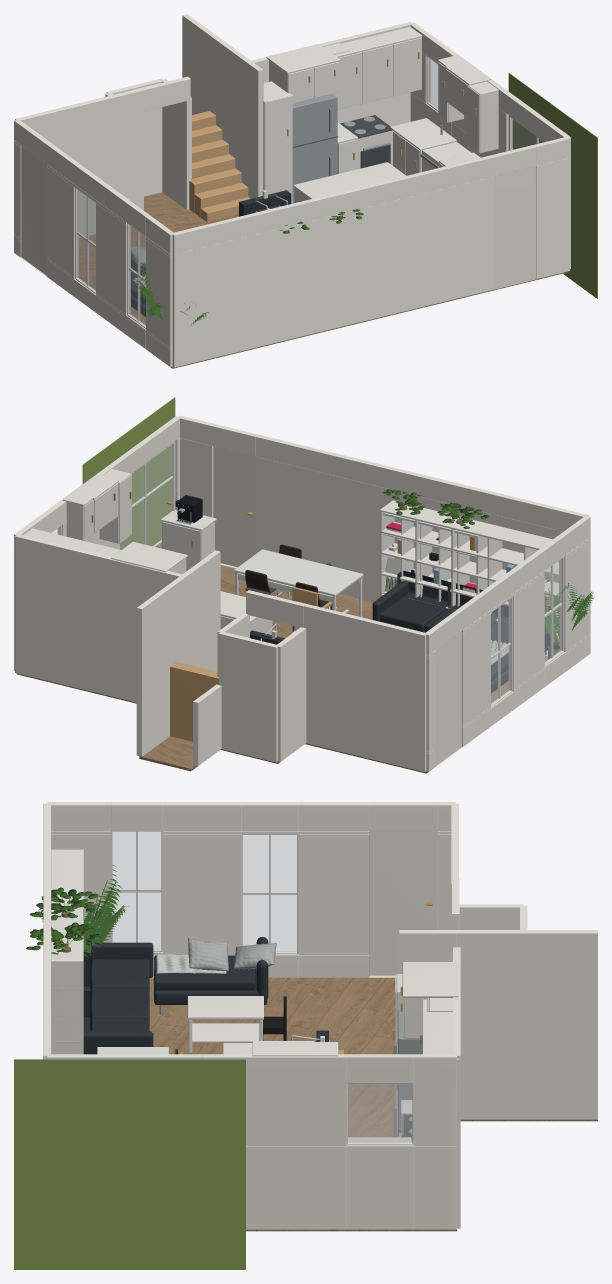
The model's file is model-7d94ebdce4aa.glb.
3 renders of one model, top to bottom at view 1: azimuth 30°, elevation 25°; view 2: azimuth 150°, elevation 25°; view 3: azimuth 270°, elevation 25°, orthographic. The views are drawn at different scales.
Visible parts, largest first — view 1: wall_8_segment.006, wall_11_segment, wall_8_segment.007, inferred_outdoor_brightness, wall_3_segment, door_panel.002, wall_8_segment.001, home-downstairs__refrigerator_24__body, wall_2_segment, measured_floor_polygon, wall_5_segment, door_panel (+52 smaller); view 2: wall_1_segment, wall_11_segment, wall_8_segment.006, wall_3_segment, wall_8_segment.007, wall_4_segment, inferred_outdoor_brightness, door_panel.002, measured_floor_polygon, wall_9_segment, wall_0_segment.015, observed_glazed_patio_panel (+45 smaller); view 3: inferred_outdoor_brightness, wall_3_segment, measured_floor_polygon, wall_0_segment.015, wall_0_segment.027, wall_7_segment.007, door_panel, wall_7_segment.008, wall_7_segment.004, glass.001, glass, glass.002 (+40 smaller).
Part boxes in pixels (bbox=[...]): wall_8_segment.006: bbox=[172, 176, 493, 367]; wall_11_segment: bbox=[15, 88, 143, 237]; wall_8_segment.007: bbox=[172, 155, 493, 254]; inferred_outdoor_brightness: bbox=[508, 73, 597, 298]; wall_3_segment: bbox=[182, 14, 240, 168]; door_panel.002: bbox=[494, 166, 535, 288]; wall_8_segment.001: bbox=[536, 158, 569, 278]; home-downstairs__refrigerator_24__body: bbox=[292, 94, 337, 203]; wall_2_segment: bbox=[236, 53, 263, 198]; measured_floor_polygon: bbox=[79, 192, 568, 368]; wall_5_segment: bbox=[161, 79, 191, 209]; door_panel: bbox=[21, 145, 46, 275]; wall_1_segment: bbox=[15, 535, 181, 702]; wall_11_segment: bbox=[294, 601, 426, 771]; wall_8_segment.006: bbox=[256, 456, 562, 641]; wall_3_segment: bbox=[136, 567, 197, 756]; wall_8_segment.007: bbox=[256, 434, 589, 531]; wall_4_segment: bbox=[219, 632, 278, 762]; inferred_outdoor_brightness: bbox=[82, 397, 175, 549]; door_panel.002: bbox=[213, 446, 255, 567]; measured_floor_polygon: bbox=[16, 565, 547, 773]; wall_9_segment: bbox=[277, 627, 306, 761]; wall_0_segment.015: bbox=[508, 574, 544, 689]; observed_glazed_patio_panel: bbox=[120, 445, 172, 549]; inferred_outdoor_brightness: bbox=[14, 1059, 245, 1269]; wall_3_segment: bbox=[457, 930, 597, 1119]; measured_floor_polygon: bbox=[149, 977, 597, 1231]; wall_0_segment.015: bbox=[163, 834, 241, 952]; wall_0_segment.027: bbox=[298, 834, 369, 952]; wall_7_segment.007: bbox=[246, 1146, 346, 1229]; door_panel: bbox=[369, 830, 437, 975]; wall_7_segment.008: bbox=[246, 1083, 346, 1145]; wall_7_segment.004: bbox=[346, 1145, 413, 1229]; glass.001: bbox=[243, 835, 296, 951]; glass: bbox=[113, 832, 160, 949]; glass.002: bbox=[348, 1084, 411, 1142].
Bounding box in the file's own units: 8.43 × 3.11 × 7.55.
43 materials, 1 textured.
